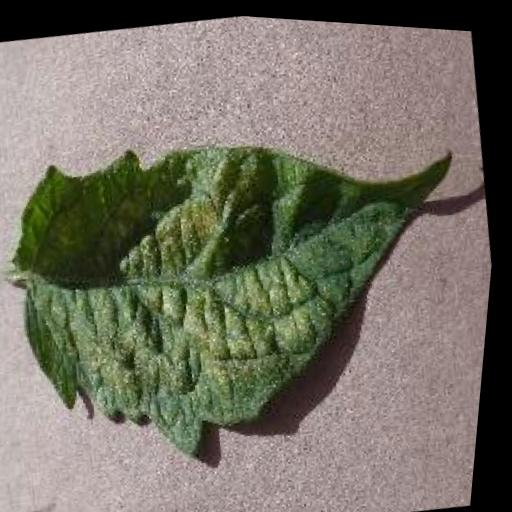Spider Mites: (0, 89, 484, 491)
